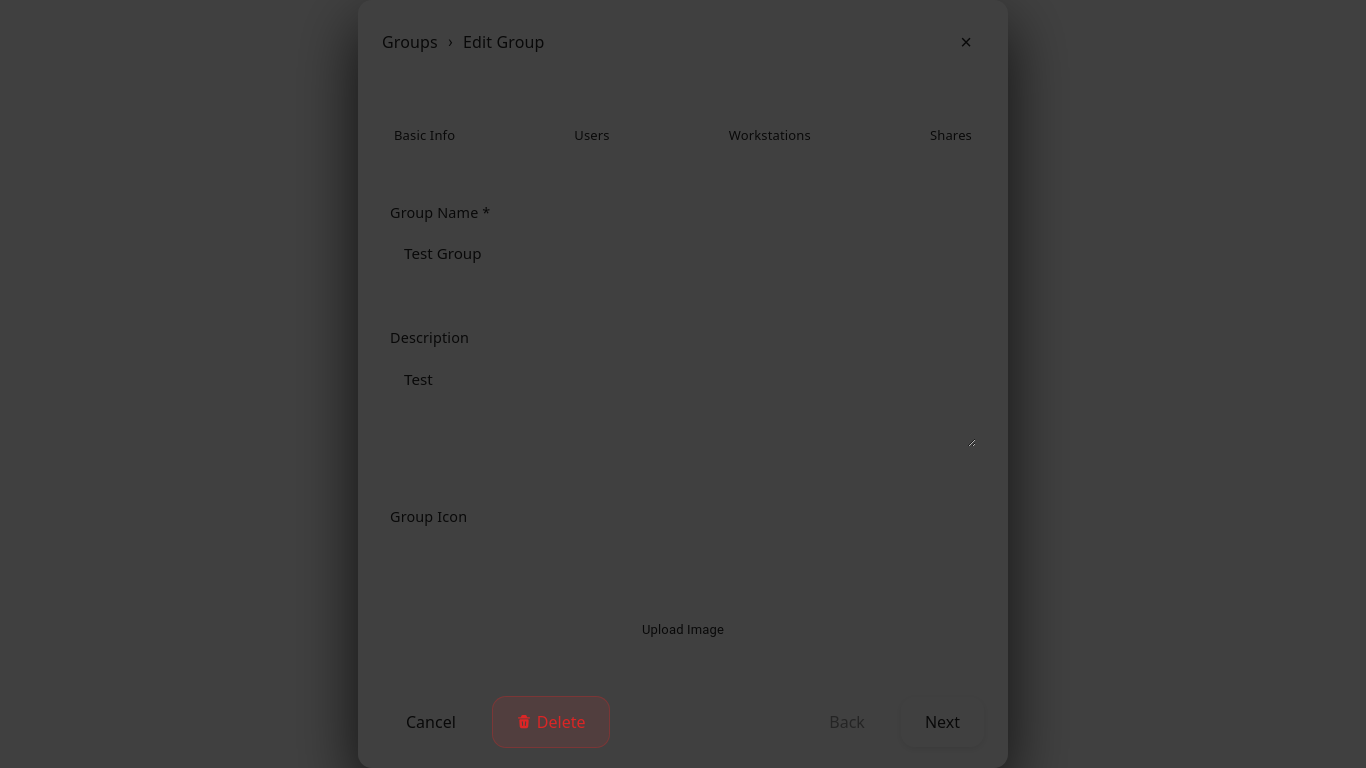
GroupsModal Component › Step Navigation › shows Save Changes button in edit mode
// Navigate to last step
Click the button "Next". click: (942, 722)
box: left=901, top=697, right=984, bottom=747
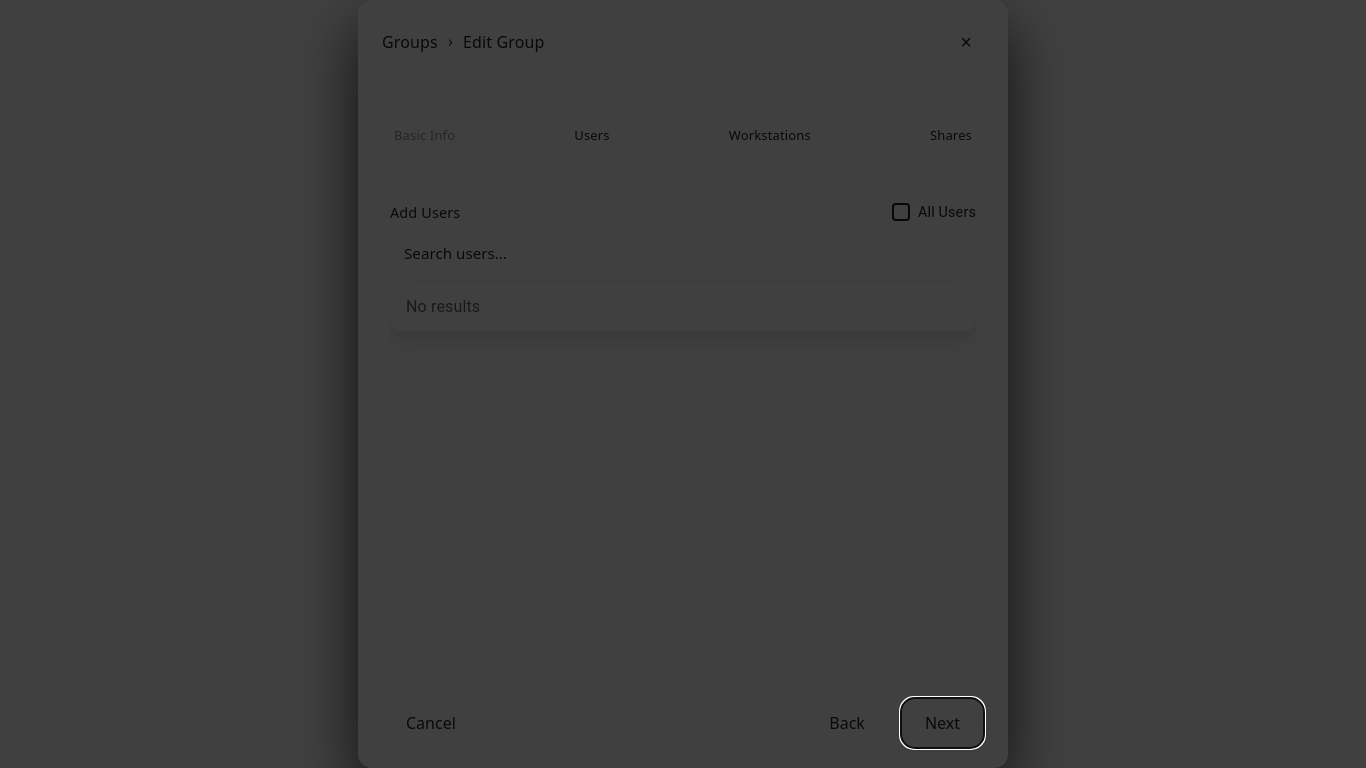
Click the button "Next". click: (942, 723)
box: left=901, top=698, right=984, bottom=748
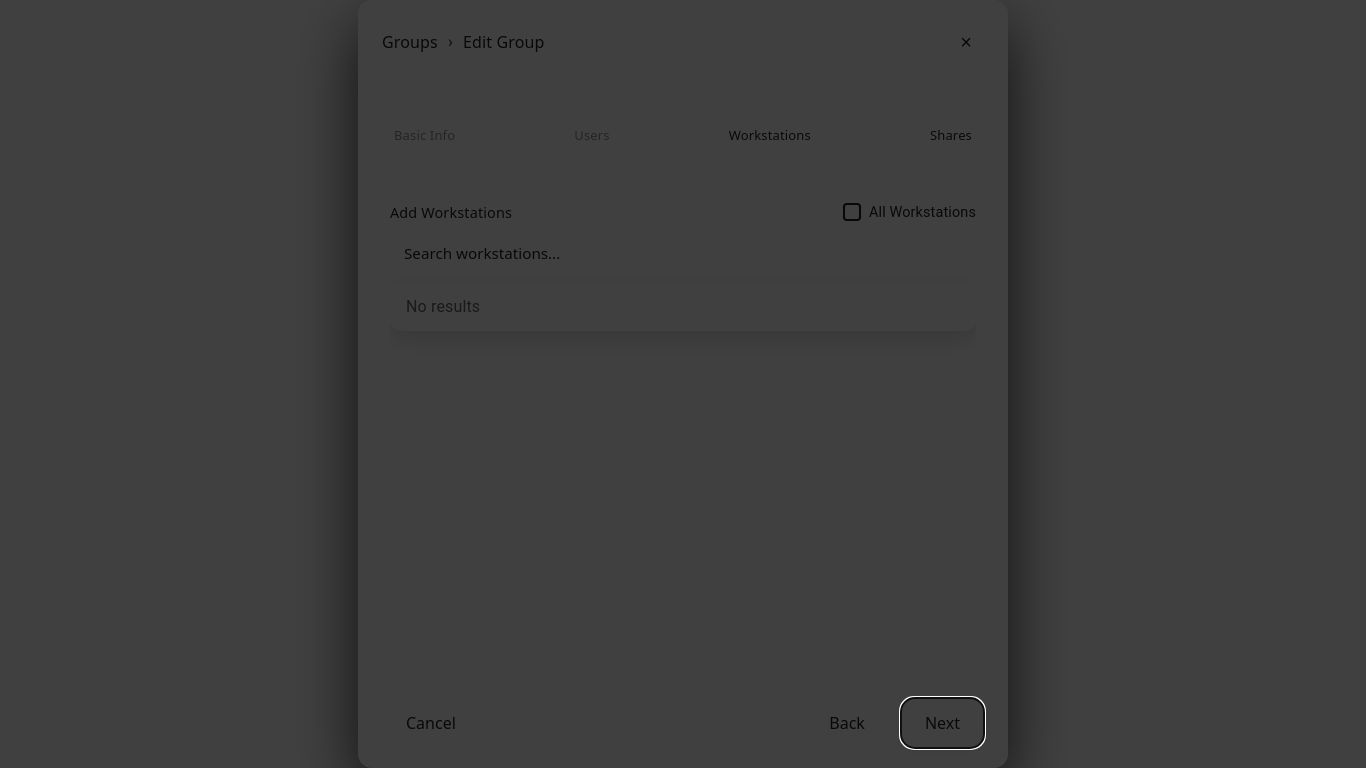
Click the button "Next". click: (942, 723)
box: left=901, top=698, right=984, bottom=748
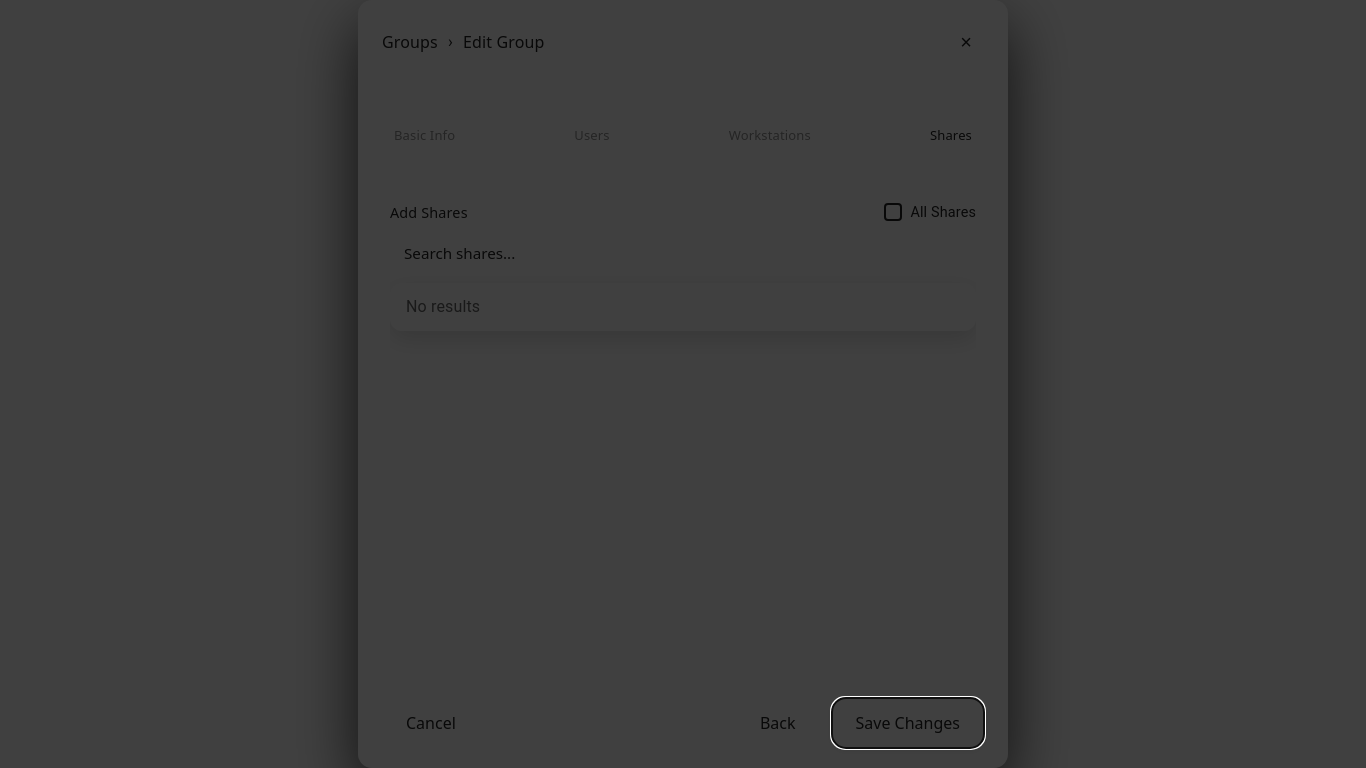
Now the button "Save Changes" is shown, box left=832, top=698, right=984, bottom=748
